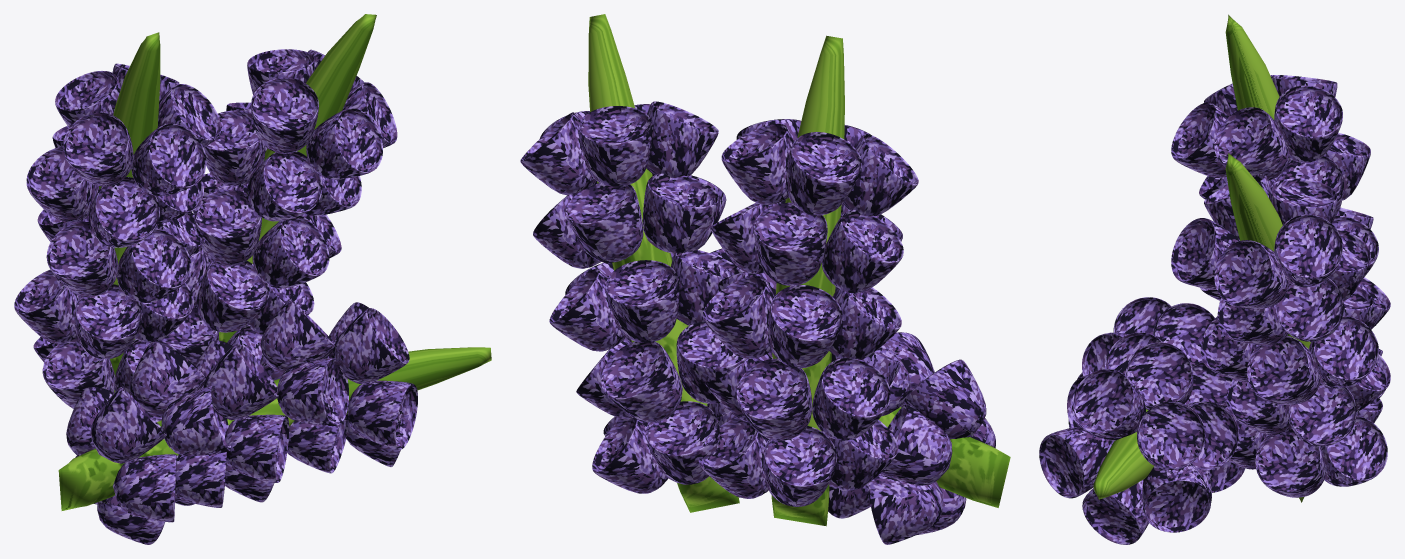
Rendered from lavender.fbx.
3 renders of one model, left to right at view 1: azimuth 30°, elevation 25°; view 2: azimuth 150°, elevation 25°; view 3: azimuth 270°, elevation 25°, orthographic. The views are drawn at different scales.
Visible parts, largest first — view 1: group8_pasted__group4_pasted__pasted__group1_pasted__pasted_; view 2: group8_pasted__group4_pasted__pasted__group1_pasted__pasted_; view 3: group8_pasted__group4_pasted__pasted__group1_pasted__pasted_.
Boxes of the visible parts, bbox=[...] form: group8_pasted__group4_pasted__pasted__group1_pasted__pasted_: bbox=[14, 14, 491, 544]; group8_pasted__group4_pasted__pasted__group1_pasted__pasted_: bbox=[520, 14, 1010, 544]; group8_pasted__group4_pasted__pasted__group1_pasted__pasted_: bbox=[1039, 14, 1390, 544].
Size of the model in its own units: 16.81 by 18.85 by 12.65.
